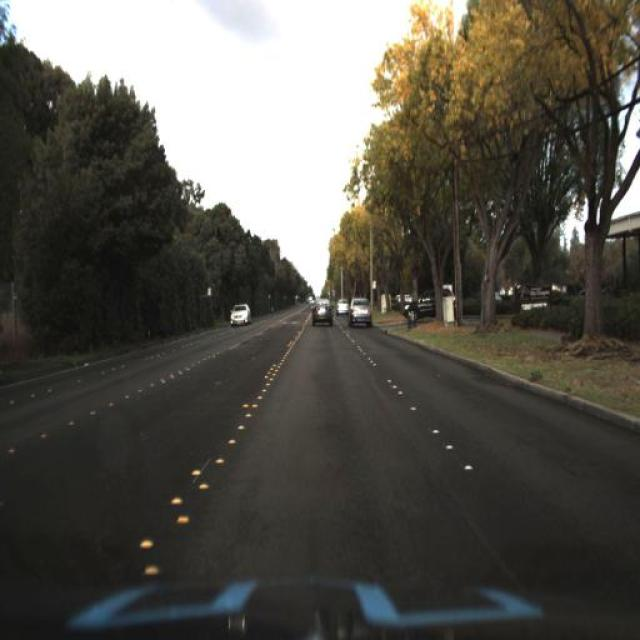car: (398, 284, 458, 324), (344, 296, 380, 338), (305, 294, 339, 332), (224, 298, 254, 338), (222, 296, 254, 333), (336, 295, 350, 320)
